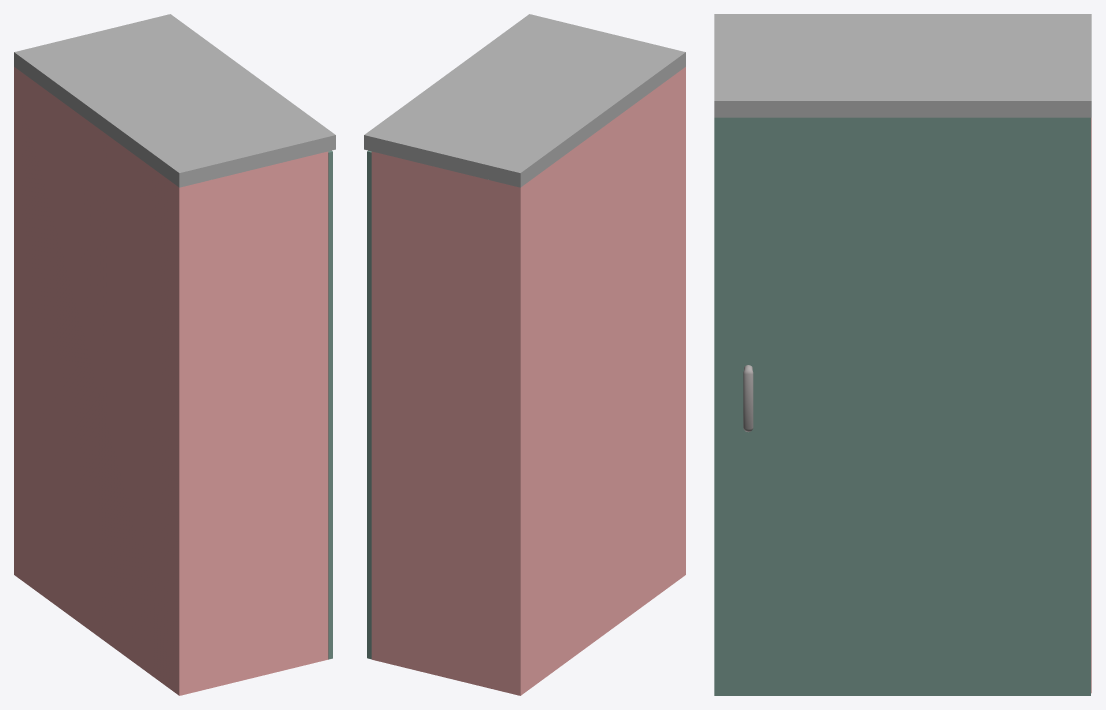
The model's file is Wardrobe.fbx.
3 views of the same model, side by side, from view 1: azimuth 30°, elevation 25°; view 2: azimuth 150°, elevation 25°; view 3: azimuth 270°, elevation 25° (orthographic). The views are drawn at different scales.
Parts seen in each view (by area): view 1: Wardrobe, Cabinet1.002; view 2: Wardrobe, Cabinet1.002; view 3: Cabinet1.002, Wardrobe.
Boxes of the visible parts, x1,y1,x2,y2 form: Wardrobe: [14, 14, 335, 695]; Cabinet1.002: [328, 150, 332, 659]; Wardrobe: [364, 14, 685, 695]; Cabinet1.002: [367, 150, 371, 659]; Cabinet1.002: [714, 117, 1090, 695]; Wardrobe: [714, 14, 1091, 693].
Bounding box in the file's own units: 87.69 × 272 × 156.
